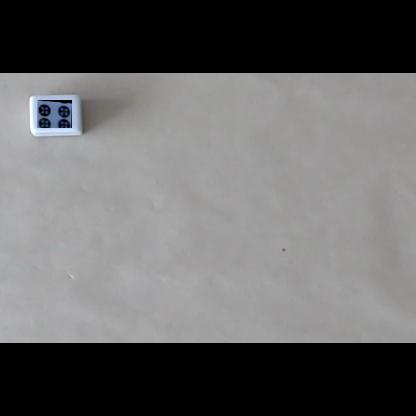4p: (37, 100, 72, 128)
